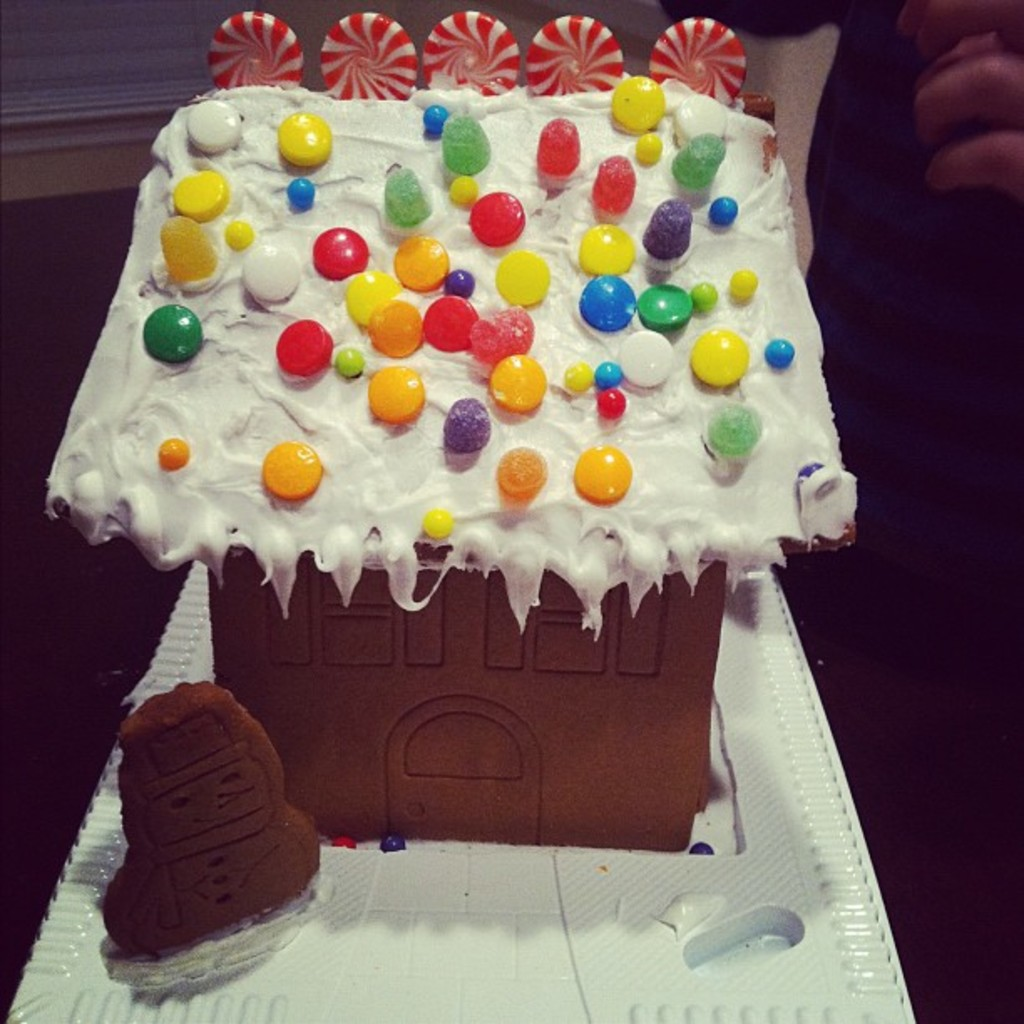cake: (42, 12, 912, 1022)
